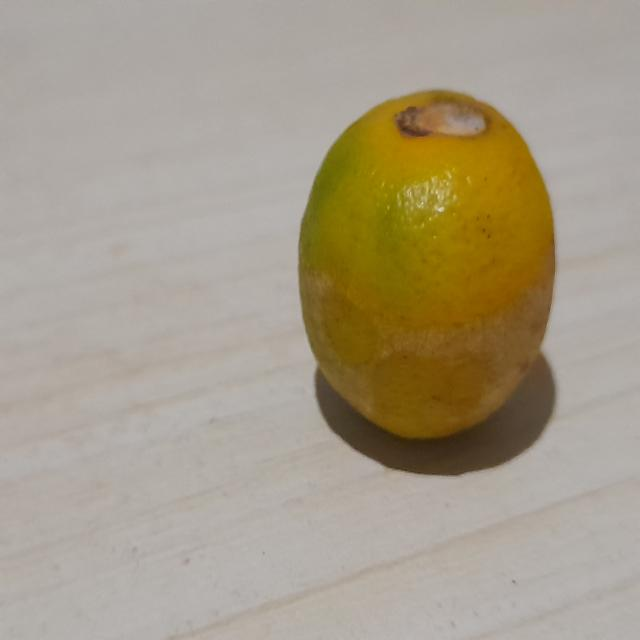greening: (292, 64, 565, 466)
